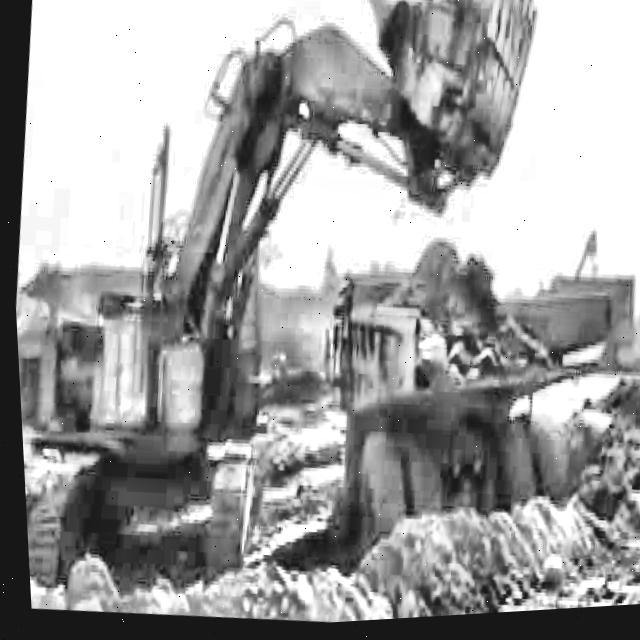dump_truck: (301, 227, 625, 590)
excavator: (12, 0, 557, 600)
